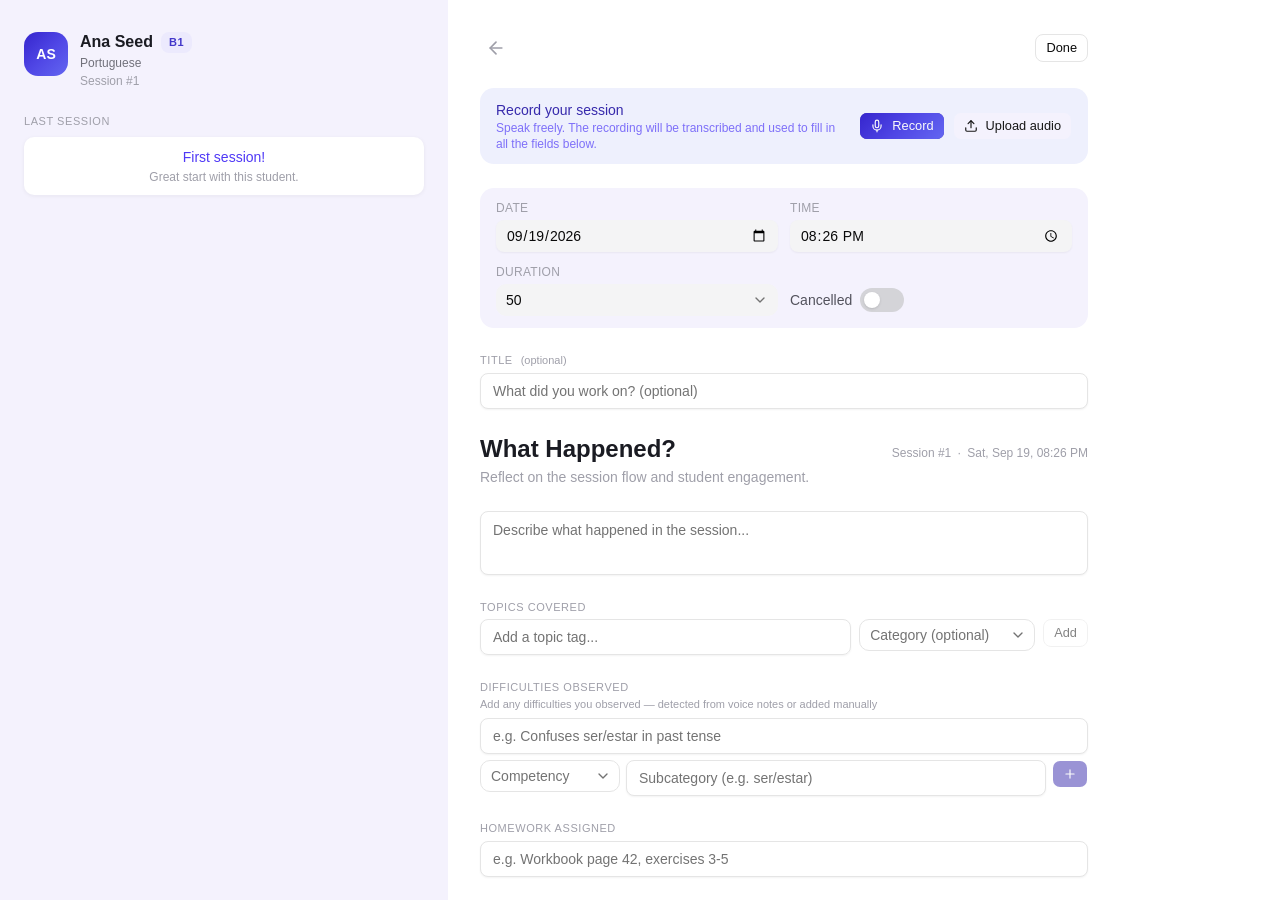
Scenario: LogSession › duration dropdown includes 25 and 50 min options
Click the dropdown with test id "duration-select" at (514, 300), box [496,284,778,316]
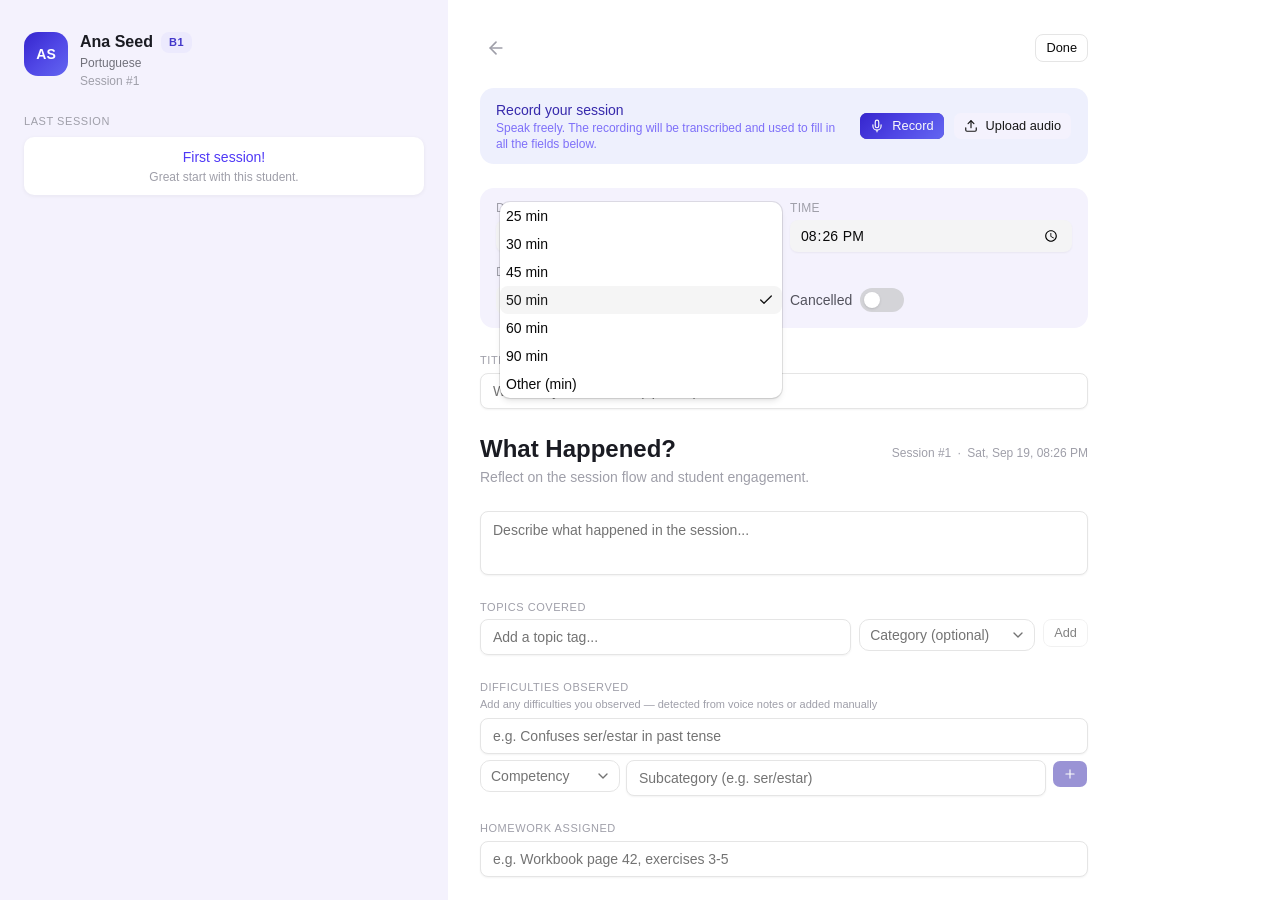
Now the option "25 min" is shown, box [506,208,548,224]
Now the option "50 min" is shown, box [500,286,782,314]
